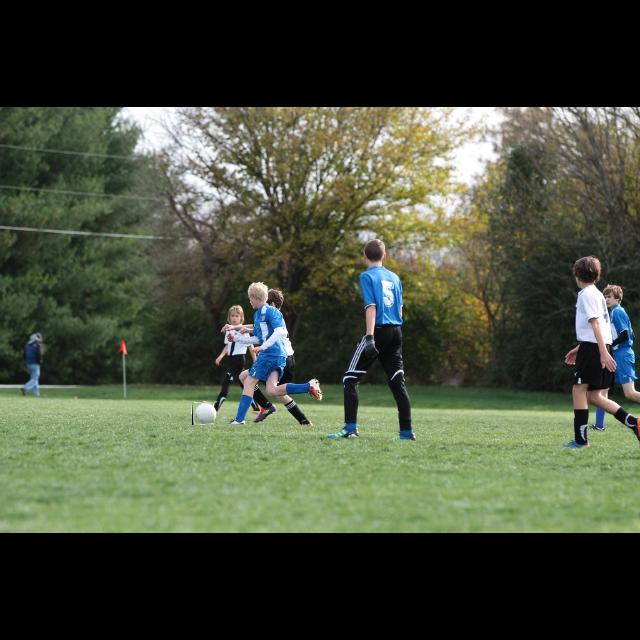Football: (192, 401, 214, 425)
